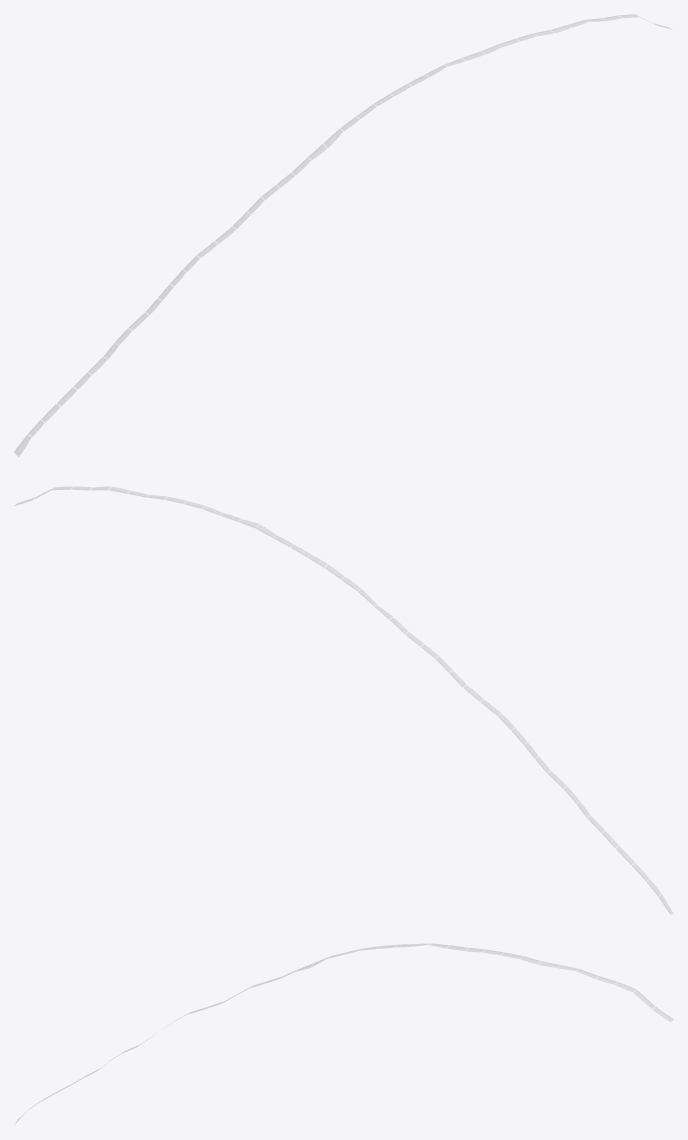
File: metalna_ograda.glb
3 views of the same model, one above another, from view 1: azimuth 30°, elevation 25°; view 2: azimuth 150°, elevation 25°; view 3: azimuth 330°, elevation 25° (orthographic).
Visible parts, largest first — view 1: Background_Tree_Atlas.002_Metal_Fence_0; view 2: Background_Tree_Atlas.002_Metal_Fence_0; view 3: Background_Tree_Atlas.002_Metal_Fence_0.
Part boxes in pixels (left/top/right/bottom): Background_Tree_Atlas.002_Metal_Fence_0: left=14, top=14, right=671, bottom=456; Background_Tree_Atlas.002_Metal_Fence_0: left=15, top=486, right=672, bottom=914; Background_Tree_Atlas.002_Metal_Fence_0: left=16, top=944, right=673, bottom=1122.
Bounding box in the file's own units: 101 × 43.08 × 3.83.
1 material, 1 textured.
